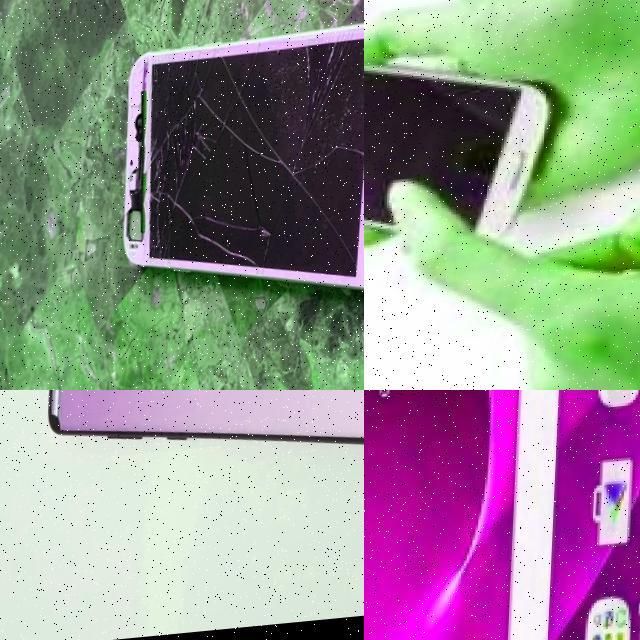dead pixel: (36, 392, 81, 453)
screen crack: (120, 35, 364, 299)
